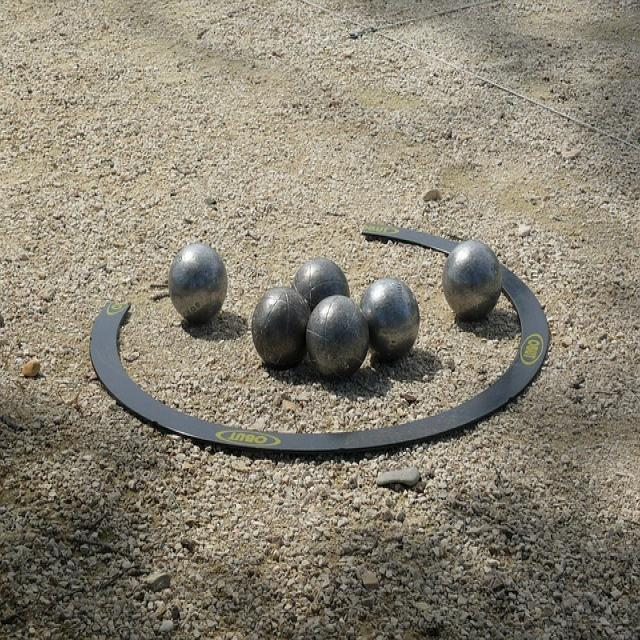petanque: (431, 232, 514, 334), (298, 285, 374, 385), (241, 281, 314, 382), (353, 271, 428, 367), (163, 238, 234, 336), (290, 252, 361, 323)
